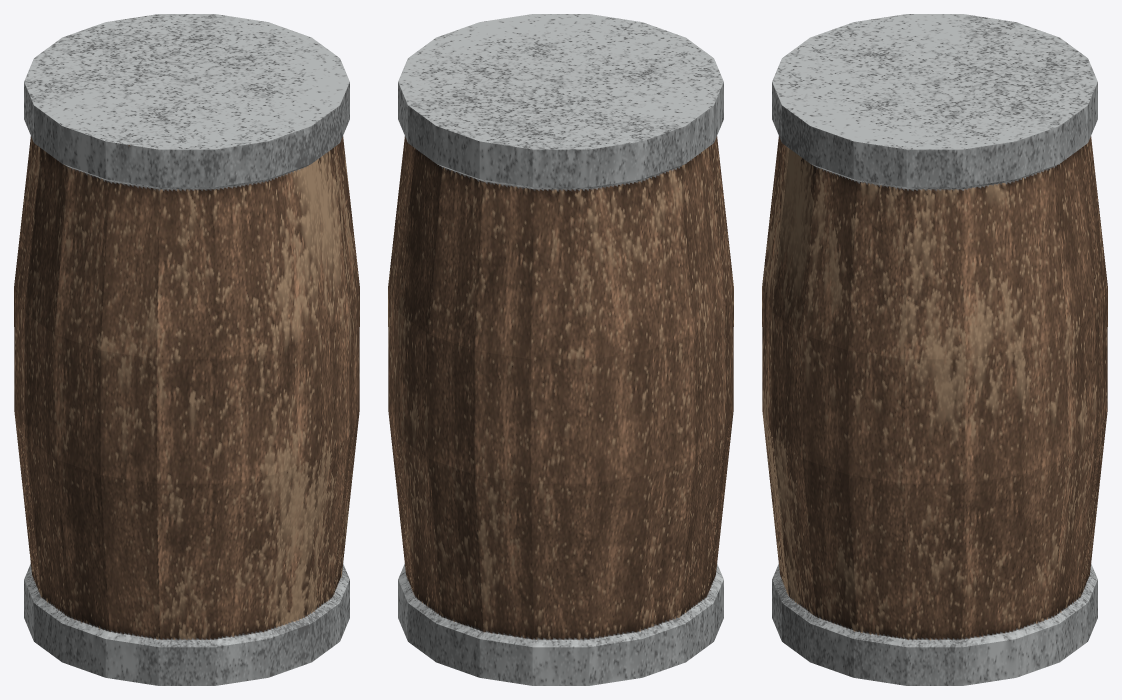
The model's file is Barrel_Goblin.fbx.
3 renders of one model, left to right at view 1: azimuth 30°, elevation 25°; view 2: azimuth 150°, elevation 25°; view 3: azimuth 270°, elevation 25°, orthographic.
Visible parts, largest first — view 1: Barrel; view 2: Barrel; view 3: Barrel.
Boxes of the visible parts, box(x1,y1,x2,y2) form: Barrel: box(14, 14, 359, 685); Barrel: box(388, 14, 733, 685); Barrel: box(762, 14, 1107, 685).
Bounding box in the file's own units: 378 × 657 × 384.
1 material, 1 textured.
